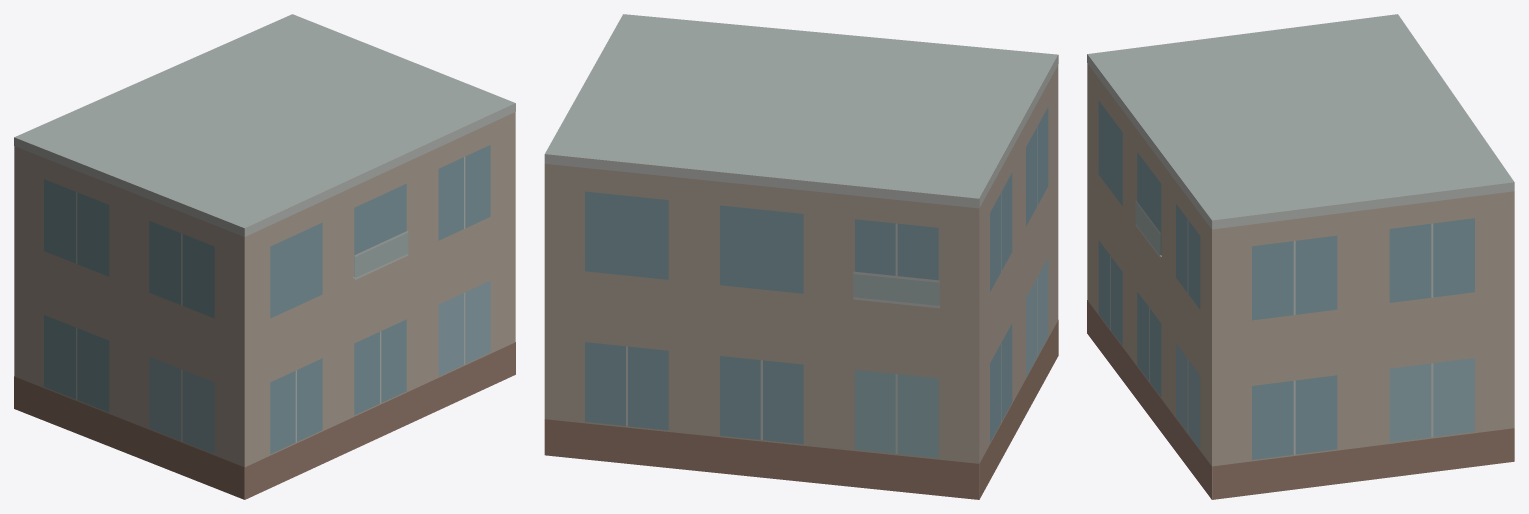
File: survey-upis-32658780.glb
The picture shows the model from 3 angles, left to right: view 1: azimuth 30°, elevation 25°; view 2: azimuth 150°, elevation 25°; view 3: azimuth 270°, elevation 25°; orthographic projection. The views are drawn at different scales.
Parts seen in each view (by area): view 1: survey-upis-32658780.tmp; view 2: survey-upis-32658780.tmp; view 3: survey-upis-32658780.tmp.
Boxes of the visible parts, x1,y1,x2,y2 form: survey-upis-32658780.tmp: [14, 14, 515, 499]; survey-upis-32658780.tmp: [544, 14, 1058, 499]; survey-upis-32658780.tmp: [1087, 14, 1514, 499].
Bounding box in the file's own units: 12.06 × 7.6 × 10.55.
